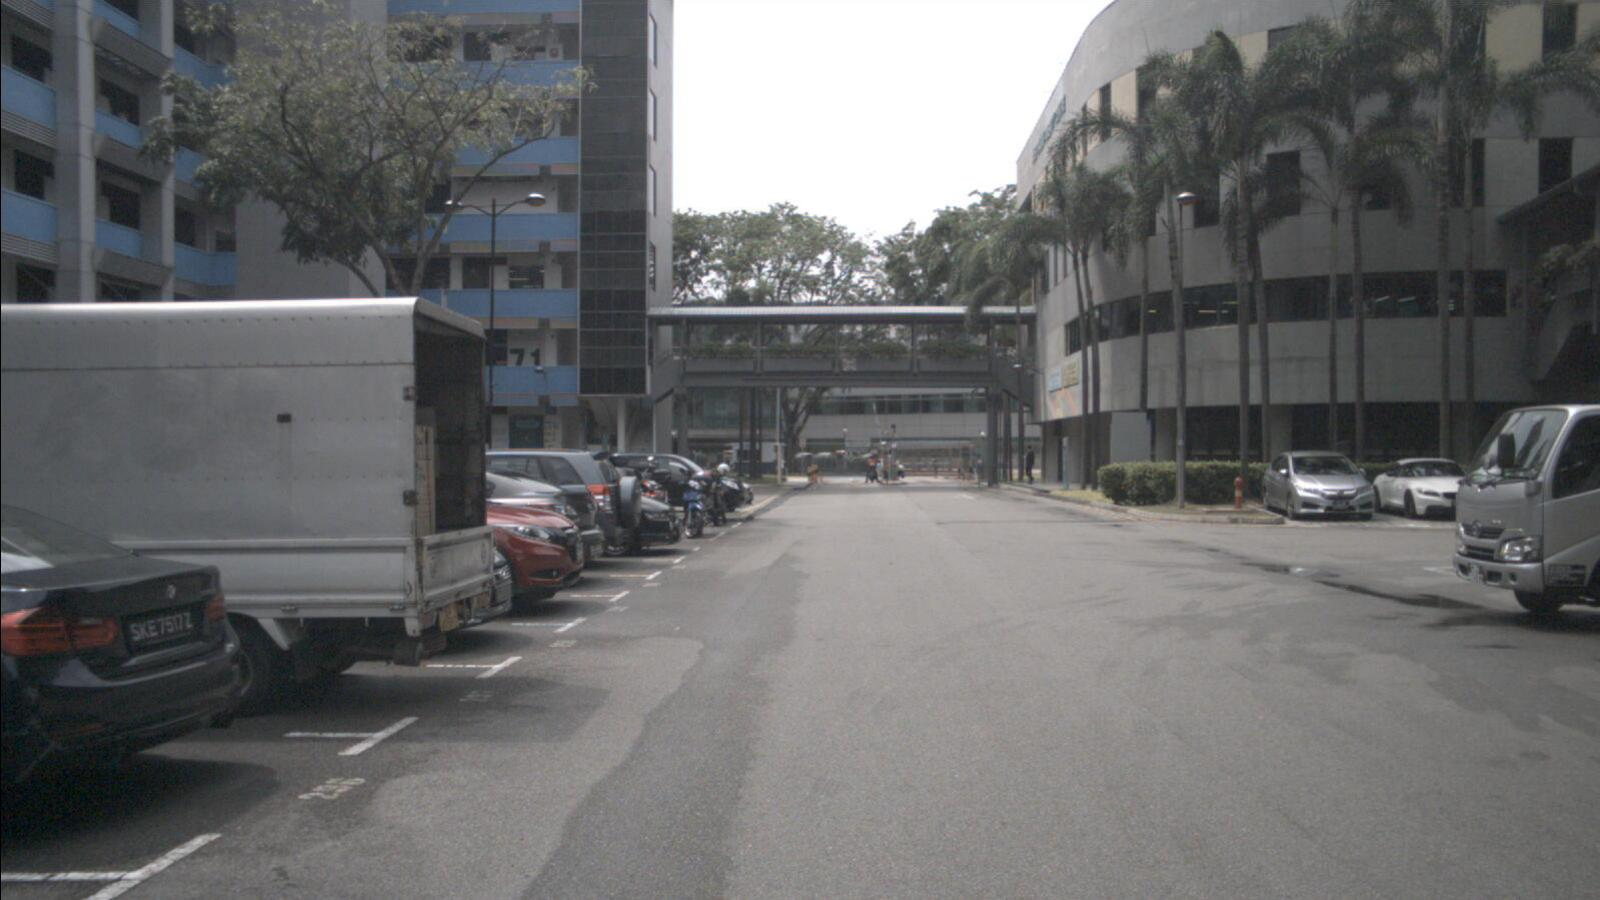human.pedestrian.adult-pedestrian.moving: (1024, 445, 1034, 485)
human.pedestrian.adult-pedestrian.standing: (706, 462, 727, 524)
vehicle.motorcycle-cycle.with_rider: (678, 462, 732, 539), (864, 457, 881, 484)
